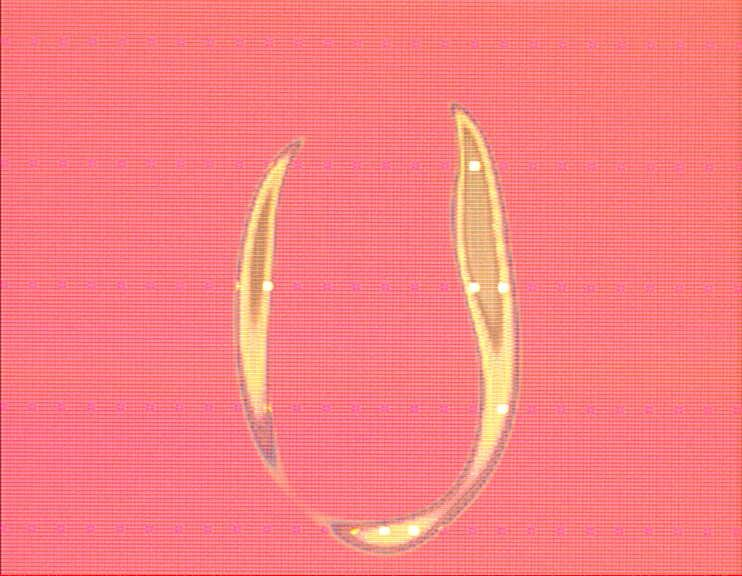BLOCK ETCH: (228, 97, 531, 563)
